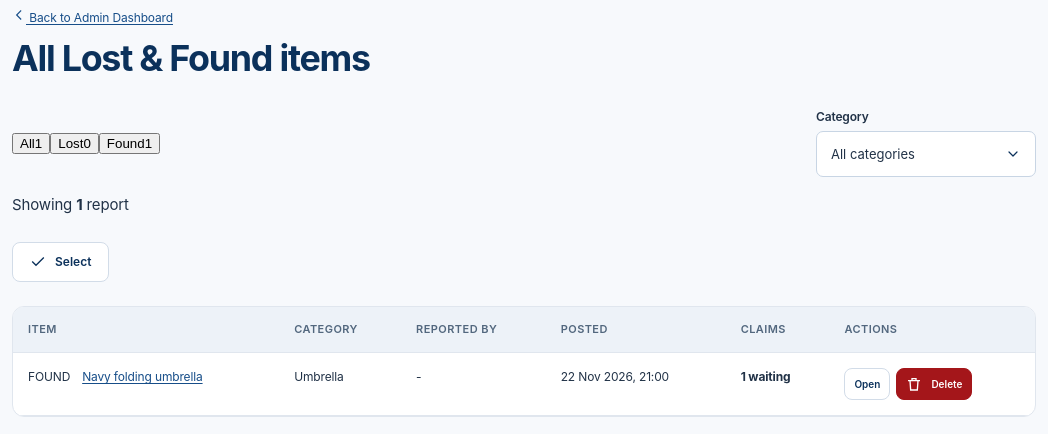
Test: lost-and-found integration boundaries › admin item titles and Open actions reach the mounted item route
Step 1. Click the link "Open" → (867, 384), box [844,368,890,400]
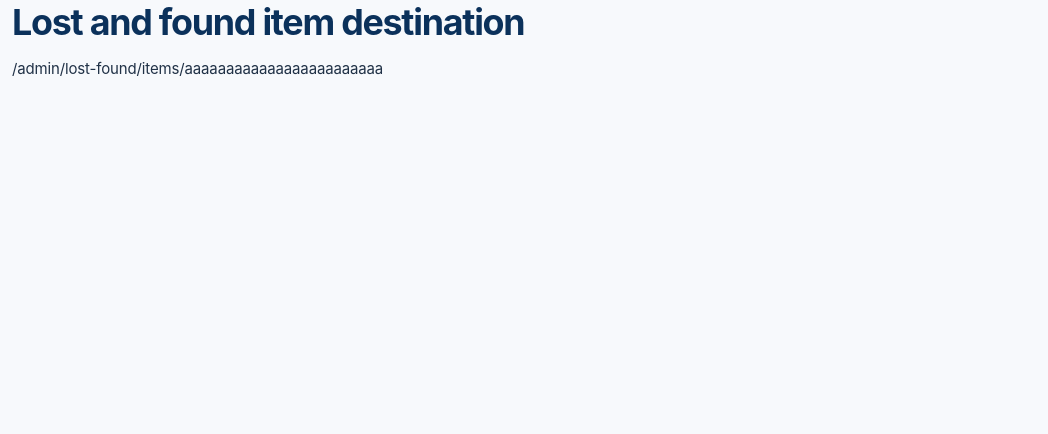
expect the heading "Lost and found item destination" is shown: met, box [12,0,524,44]
